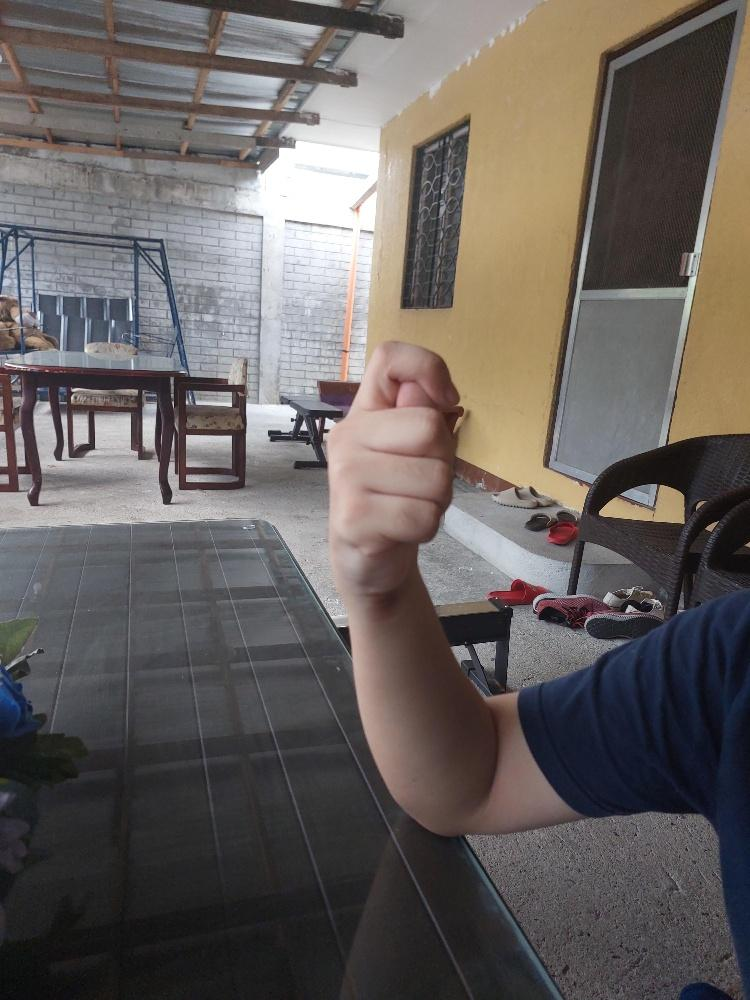t: (323, 334, 462, 604)
